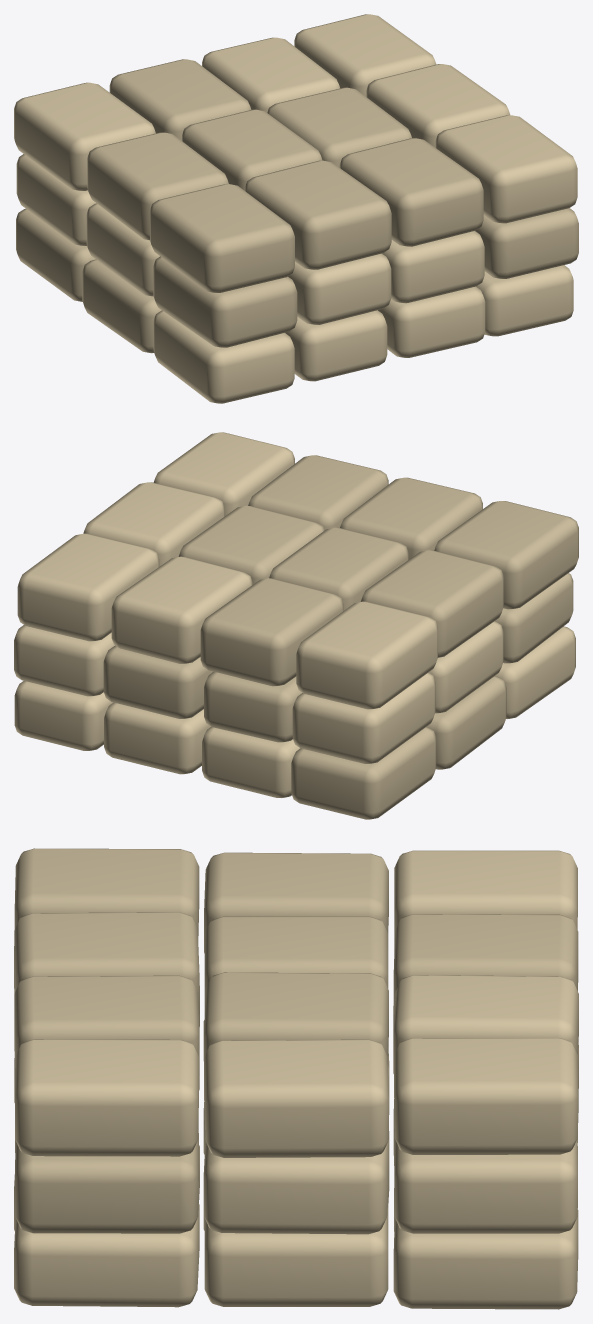
The model's file is JPN-07.glb.
3 renders of one model, top to bottom at view 1: azimuth 30°, elevation 25°; view 2: azimuth 150°, elevation 25°; view 3: azimuth 270°, elevation 25°, orthographic. The views are drawn at different scales.
Visible parts, largest first — view 1: handmade block.024, handmade block.027, handmade block.033, handmade block.030, handmade block.026, handmade block.025, handmade block, handmade block.012, handmade block.034, handmade block.029, handmade block.035, handmade block.028 (+12 smaller); view 2: handmade block.026, handmade block.029, handmade block.035, handmade block.032, handmade block.024, handmade block.025, handmade block.002, handmade block.014, handmade block.034, handmade block.027, handmade block.033, handmade block.028 (+12 smaller); view 3: handmade block.034, handmade block.033, handmade block.035, handmade block.023, handmade block.021, handmade block.022, handmade block.011, handmade block.009, handmade block.010, handmade block.031, handmade block.024, handmade block.026 (+6 smaller).
Boxes of the visible parts, x1,y1,x2,y2 form: handmade block.024: [150, 184, 294, 292]; handmade block.027: [244, 160, 391, 269]; handmade block.033: [435, 115, 577, 223]; handmade block.030: [339, 138, 483, 246]; handmade block.026: [14, 82, 155, 190]; handmade block.025: [87, 132, 228, 240]; handmade block: [153, 310, 294, 403]; handmade block.012: [153, 256, 297, 347]; handmade block.034: [366, 64, 510, 147]; handmade block.029: [109, 59, 251, 140]; handmade block.035: [294, 14, 436, 96]; handmade block.028: [182, 109, 322, 190]; handmade block.026: [296, 601, 437, 709]; handmade block.029: [200, 578, 343, 686]; handmade block.035: [17, 533, 159, 641]; handmade block.032: [111, 556, 252, 663]; handmade block.024: [434, 501, 578, 609]; handmade block.025: [361, 550, 503, 657]; handmade block.002: [291, 727, 436, 819]; handmade block.014: [292, 672, 435, 763]; handmade block.034: [83, 482, 224, 566]; handmade block.027: [340, 477, 482, 559]; handmade block.033: [153, 432, 294, 516]; handmade block.028: [269, 527, 408, 610]; handmade block.034: [204, 1039, 388, 1157]; handmade block.033: [15, 1039, 198, 1156]; handmade block.035: [394, 1038, 577, 1154]; handmade block.023: [394, 1132, 577, 1233]; handmade block.021: [15, 1132, 198, 1233]; handmade block.022: [203, 1131, 389, 1234]; handmade block.011: [393, 1209, 578, 1309]; handmade block.009: [14, 1203, 199, 1307]; handmade block.010: [204, 1207, 388, 1306]; handmade block.031: [204, 972, 388, 1064]; handmade block.024: [14, 848, 199, 937]; handmade block.026: [394, 850, 577, 948].
Bounding box in the file's own units: 1.94 × 0.815 × 1.85.
